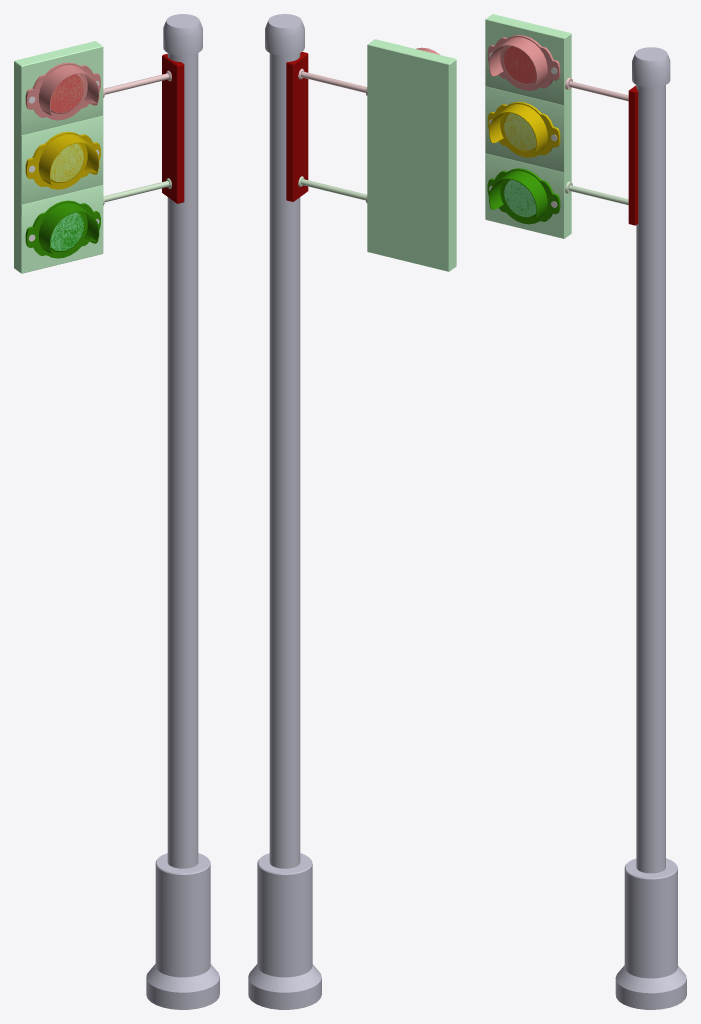
File: traffic_light.dae
3 renders of one model, left to right at view 1: azimuth 30°, elevation 25°; view 2: azimuth 150°, elevation 25°; view 3: azimuth 330°, elevation 25°, orthographic. The views are drawn at different scales.
Parts seen in each view (by area): view 1: tab, light-tab, light-red, light-yellow, light-green, holder-right, holder-down, holder-up; view 2: tab, light-tab, holder-right, holder-up, holder-down; view 3: tab, light-tab, light-yellow, light-red, light-green, holder-right.
Boxes of the visible parts, box(x1,y1,x2,y2) form: tab: box(146, 14, 219, 1009); light-tab: box(14, 41, 103, 273); light-red: box(25, 62, 100, 120); light-yellow: box(25, 131, 100, 189); light-green: box(25, 200, 100, 258); holder-right: box(162, 54, 184, 203); holder-down: box(103, 178, 171, 205); holder-up: box(103, 70, 171, 97); tab: box(248, 14, 321, 1009); light-tab: box(367, 39, 456, 271); holder-right: box(286, 52, 308, 201); holder-up: box(298, 68, 367, 95); holder-down: box(298, 176, 367, 203); tab: box(615, 47, 686, 1009); light-tab: box(485, 14, 571, 238); light-yellow: box(487, 101, 560, 157); light-red: box(487, 35, 560, 90); light-green: box(487, 168, 560, 224); holder-right: box(628, 85, 638, 225).
Bounding box in the file's own units: 75.01 × 23.93 × 351.
